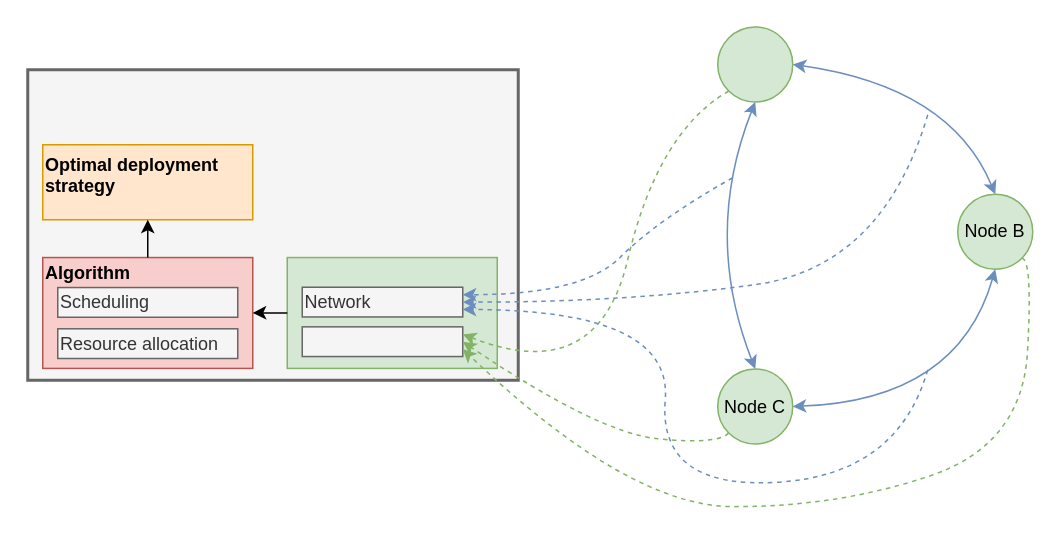
Some shapes in this 1059 by 533 pixel diagram are drawn without their labels. The shapes that lost their labels are listed below. From the top down, each one's box as (x1, y1, x2, y2) in pixels, then its label:
(716, 26, 793, 102): Node A
(26, 68, 519, 381): Orchestrator
(286, 256, 497, 368): QoS Monitor
(301, 325, 463, 357): Resources
